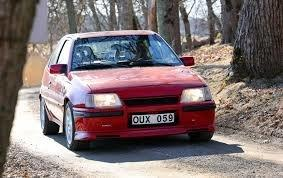license-plates: (132, 113, 175, 126)
